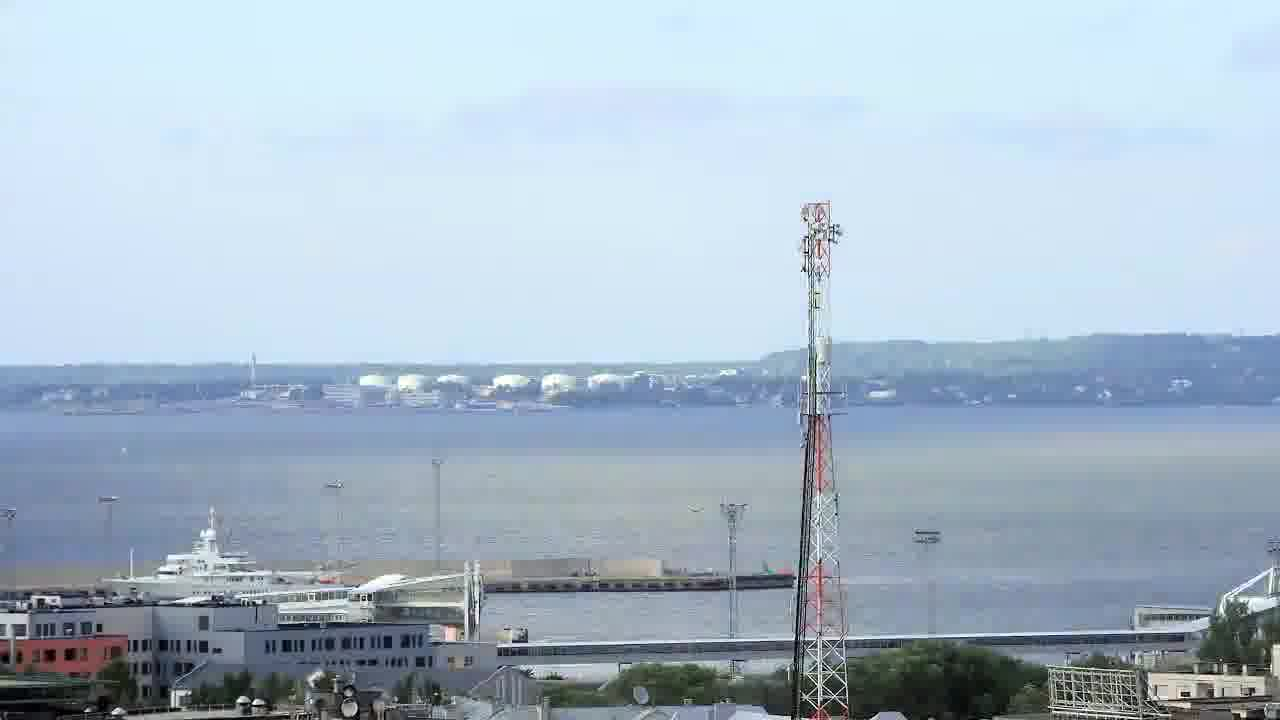type-3: (84, 515, 355, 603)
